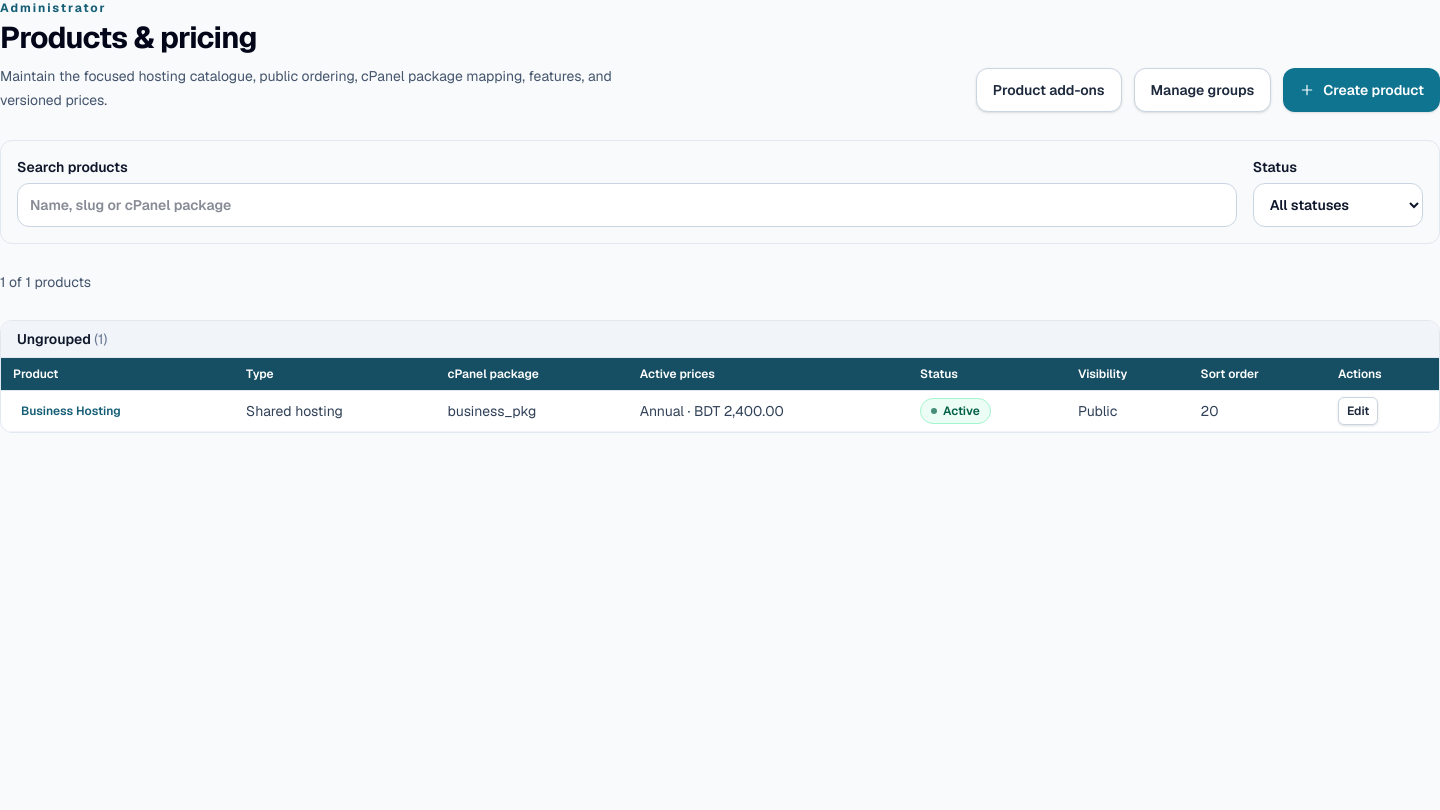
Test: product and pricing interfaces › saves direct amounts as a new price version and reloads the returned current price
This screenshot has width=1440, height=810.
Click the button "Business Hosting".
click(71, 411)  # box [13,397,129,425]
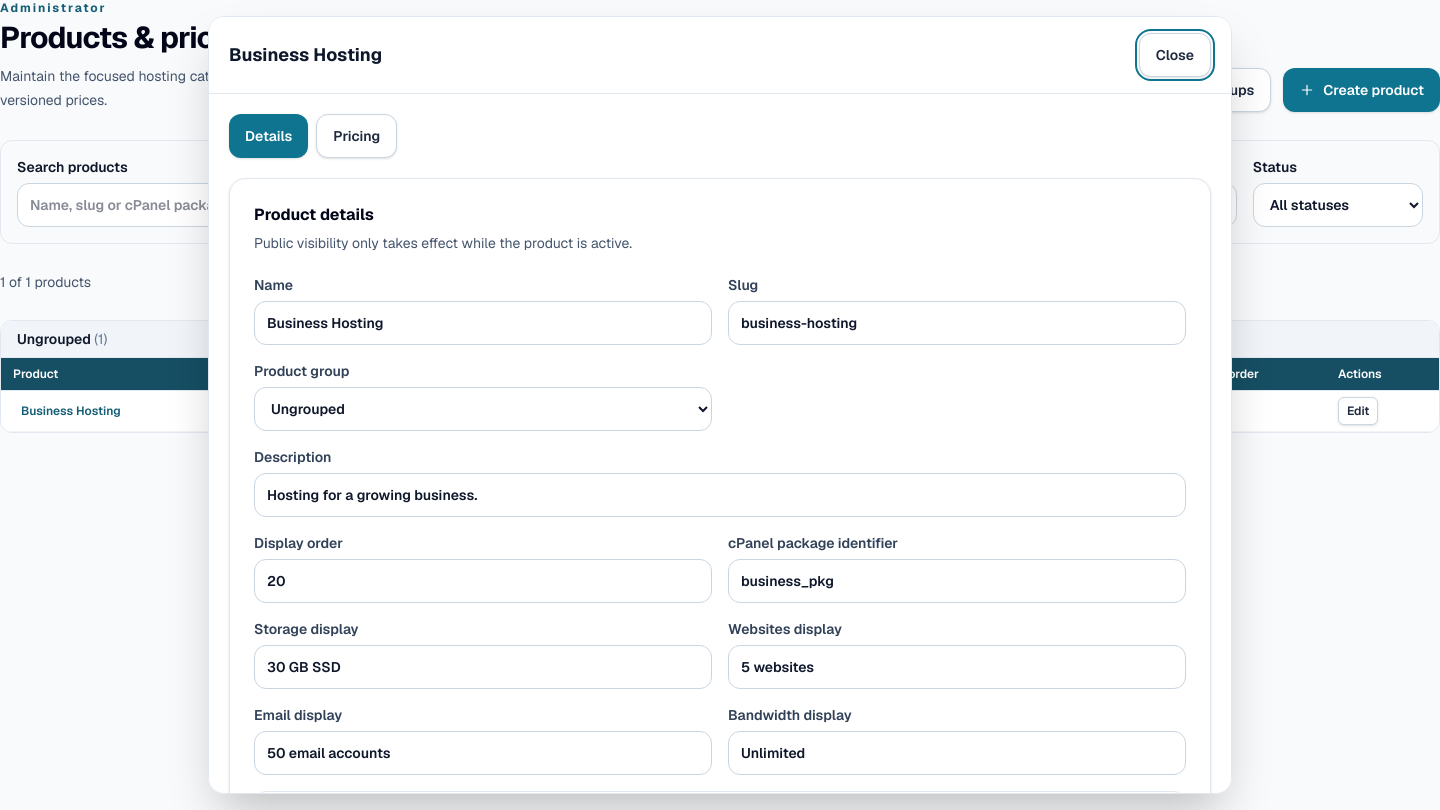
Click the button "Pricing".
click(357, 136)  # box [316,114,397,158]
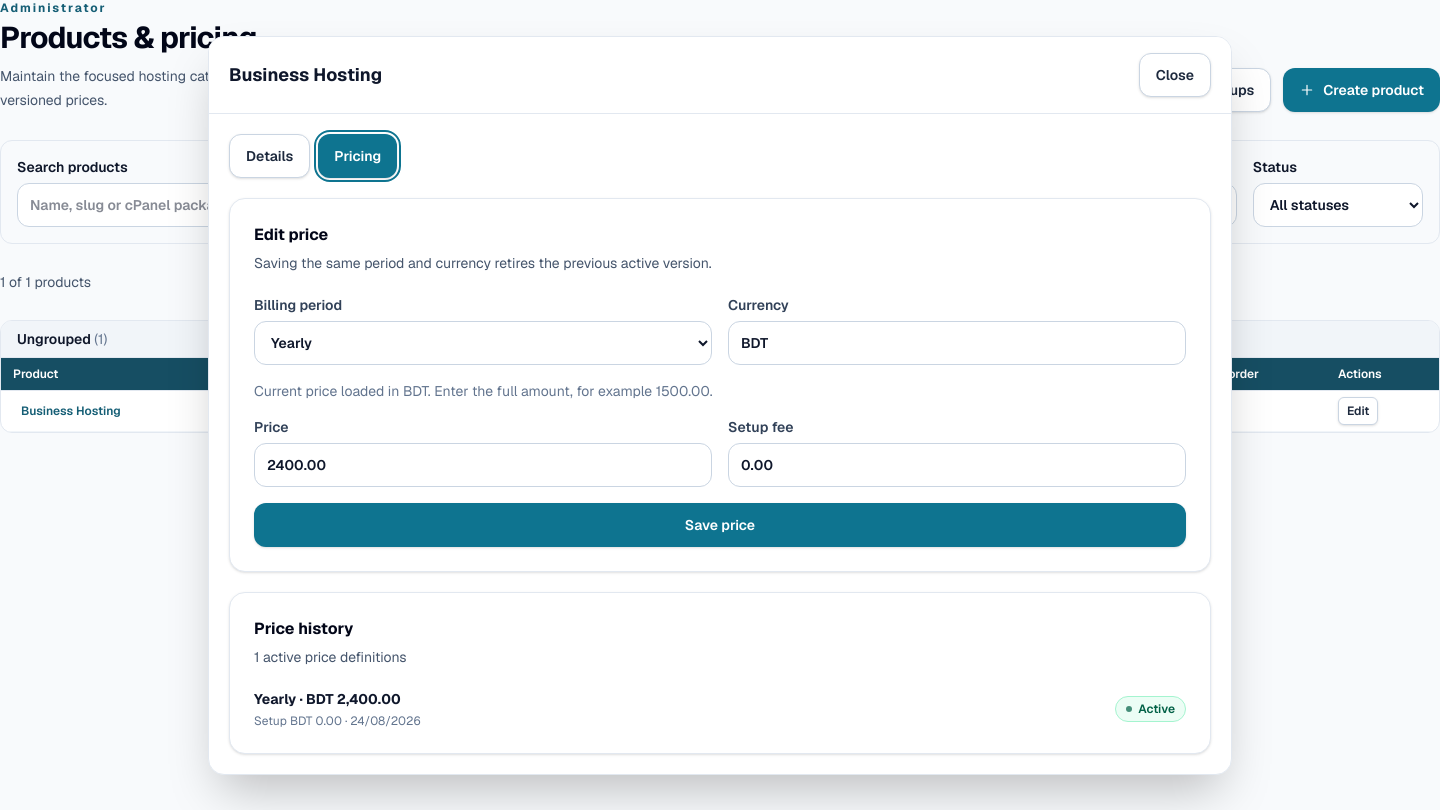
Check: the dropdown labelled "Billing period" shows "Yearly", box [254,320,712,364]
Check: the field labelled "Price" holds "2400.00"
Replace the text in the field labelled "Price" with "1500.05" at (483, 464), box [254,442,712,486]
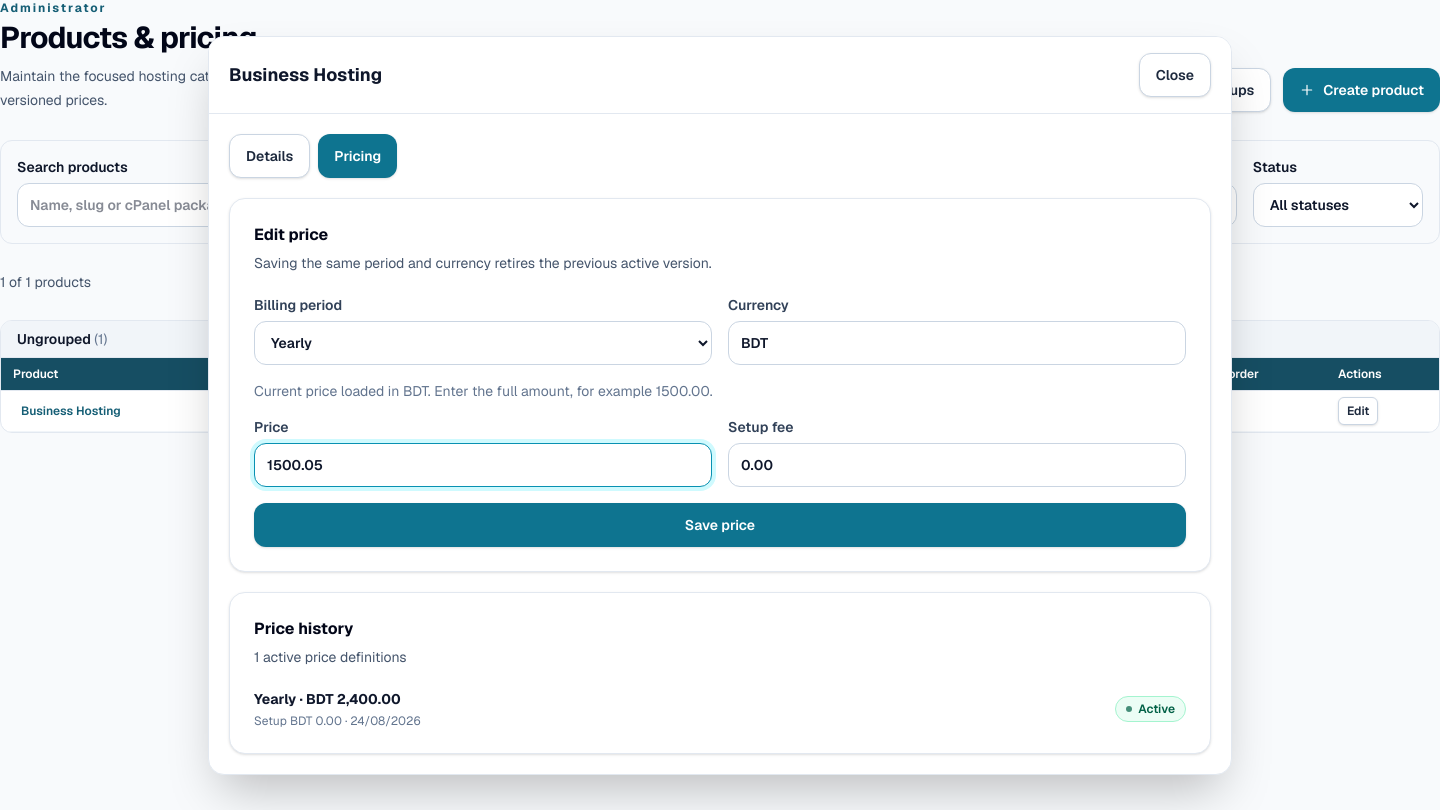
Replace the text in the field labelled "Setup fee" with "25.10" at (957, 464), box [728,442,1186,486]
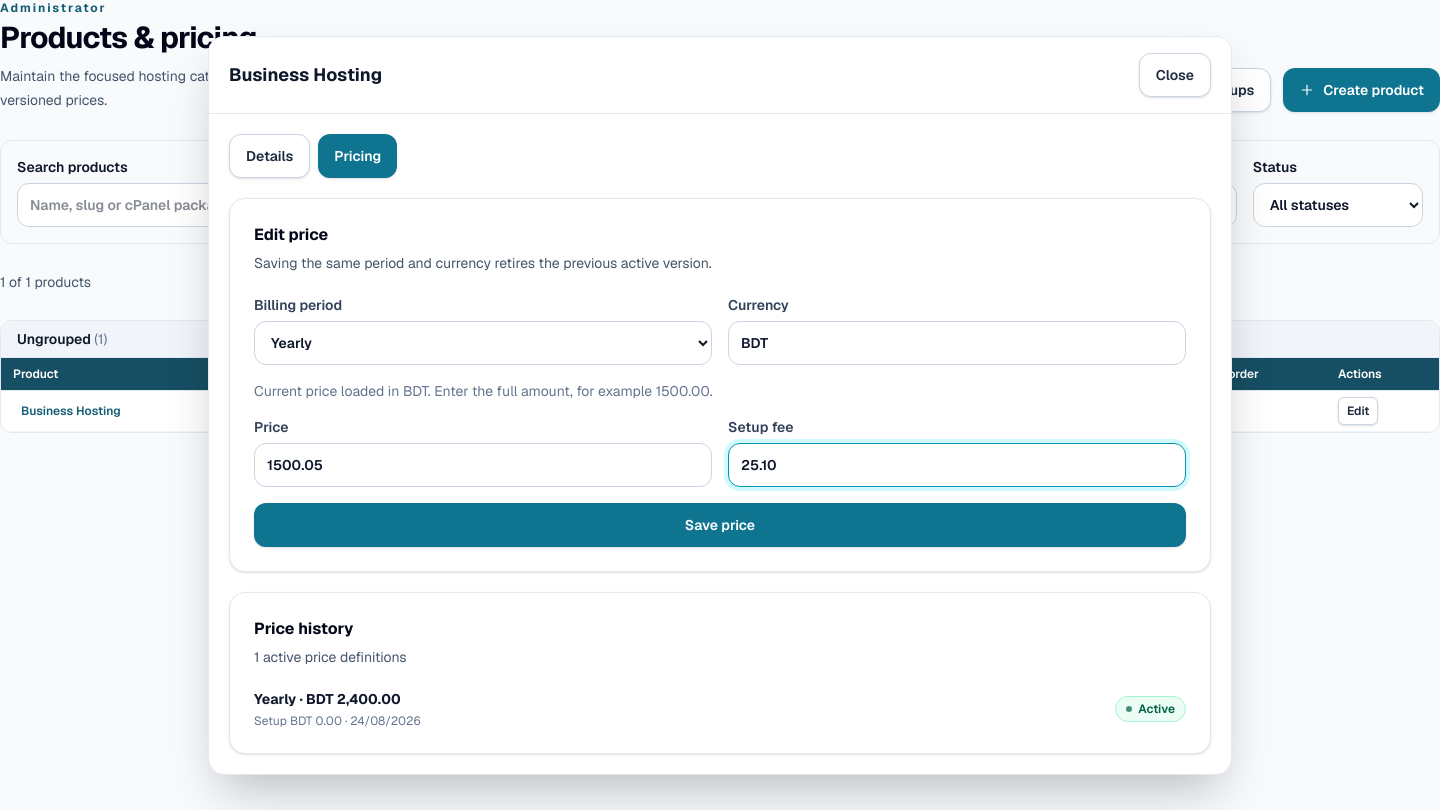
Click the button "Save price".
click(720, 524)  # box [254,502,1186,546]
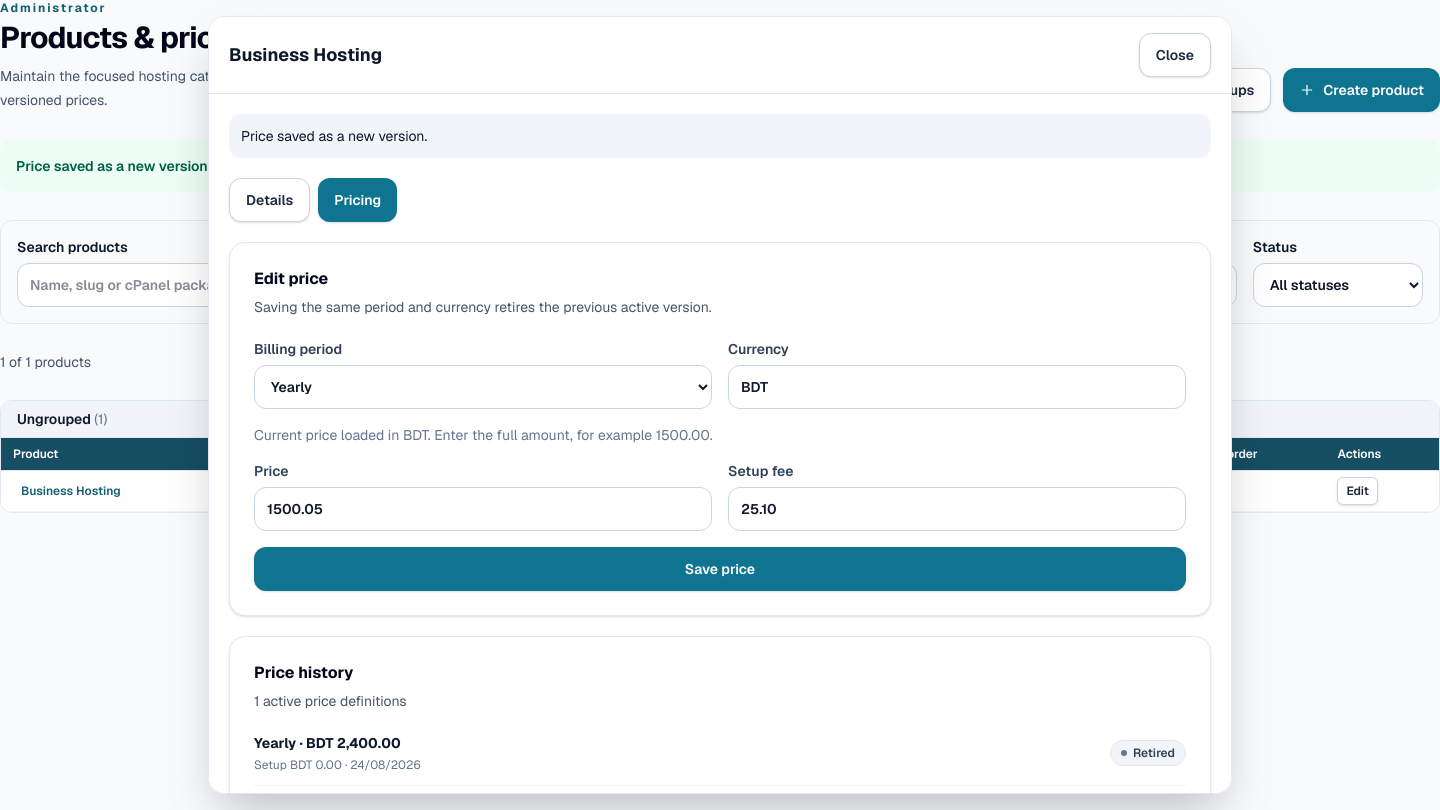
Check: the field labelled "Price" holds "1500.05", box [254,487,712,531]
Check: the field labelled "Setup fee" holds "25.10", box [728,487,1186,531]
Check: the text "Price saved as a new version." is shown, box [229,114,1211,158]
